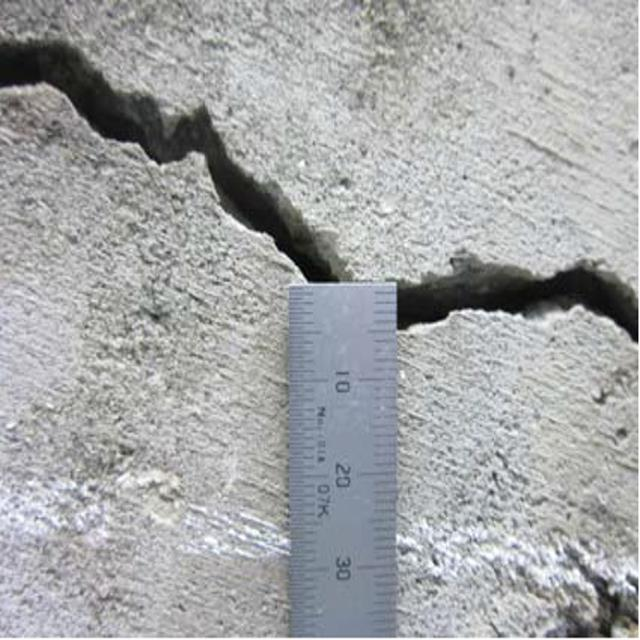crack: (8, 29, 640, 344)
